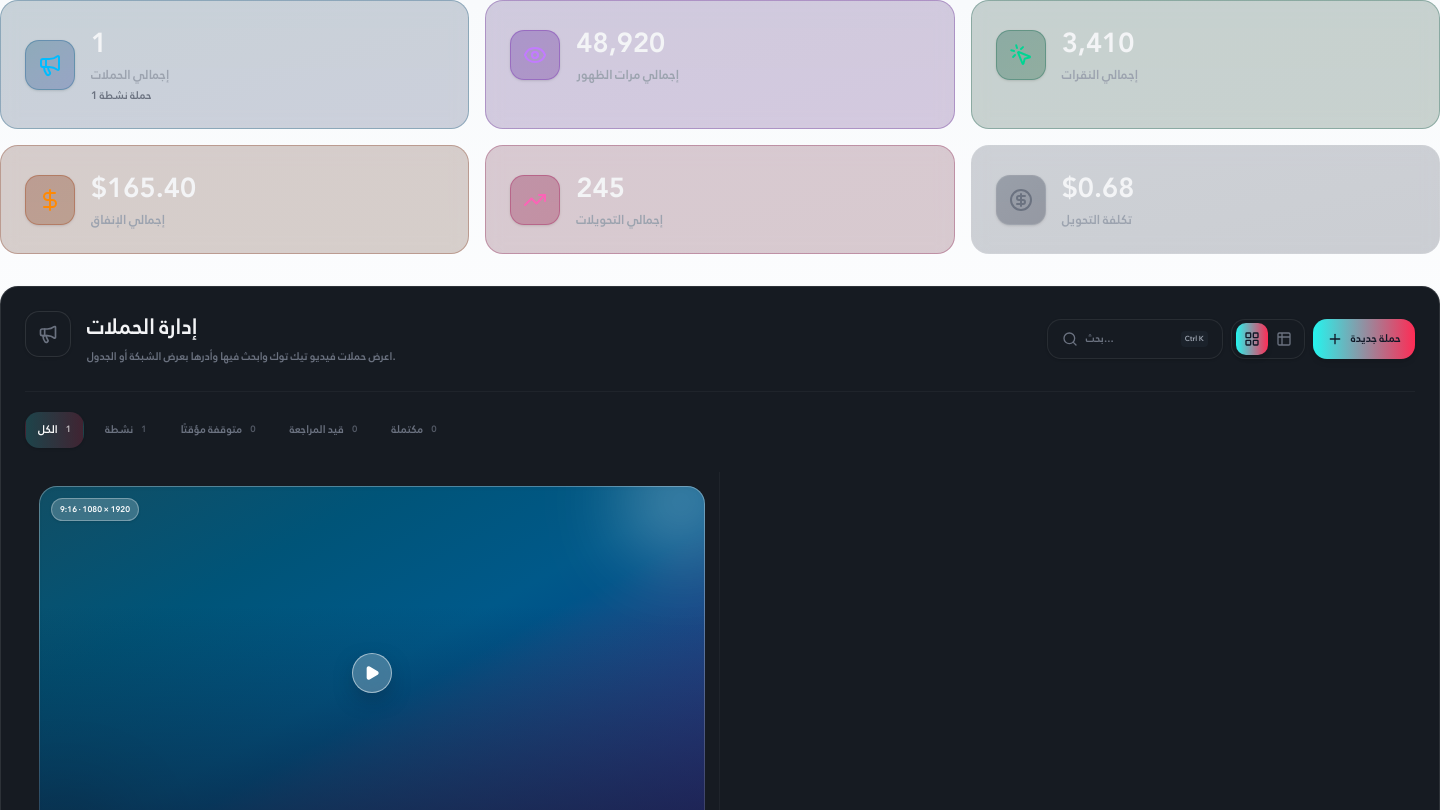
Test: PlatformCampaignsPage › localizes the campaign catalogue and table for Arabic administrators
Expected: the text "إجمالي الحملات" is shown, [91,64,169,86]
Expected: the heading "إدارة الحملات" is shown, [87,311,198,343]
Click the button named "عرض الجدول" at point(1284, 339), box [1268,323,1300,355]
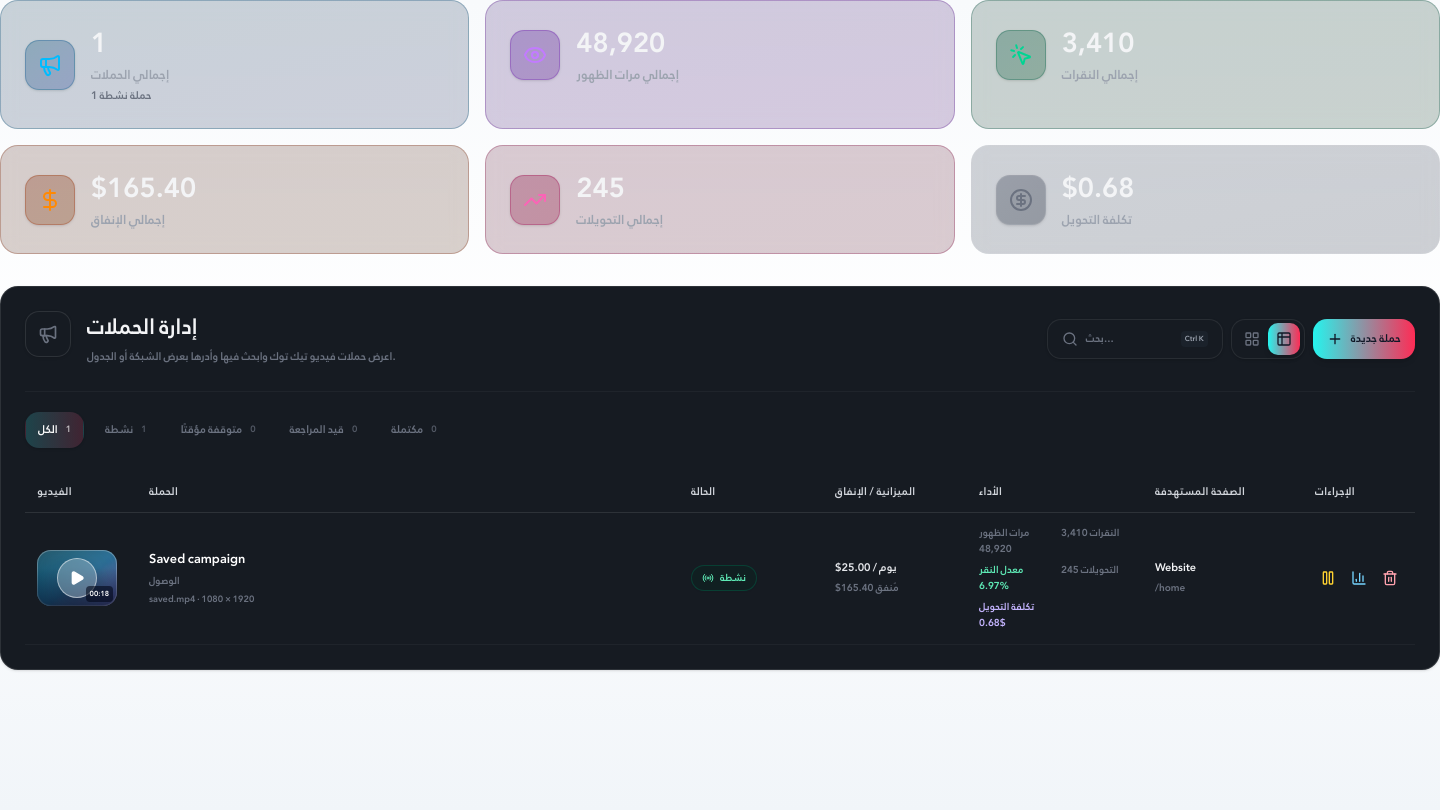
Now the column heading "الفيديو" is shown, box [25,472,137,512]
Now the column heading "الميزانية / الإنفاق" is shown, box [823,472,967,512]
